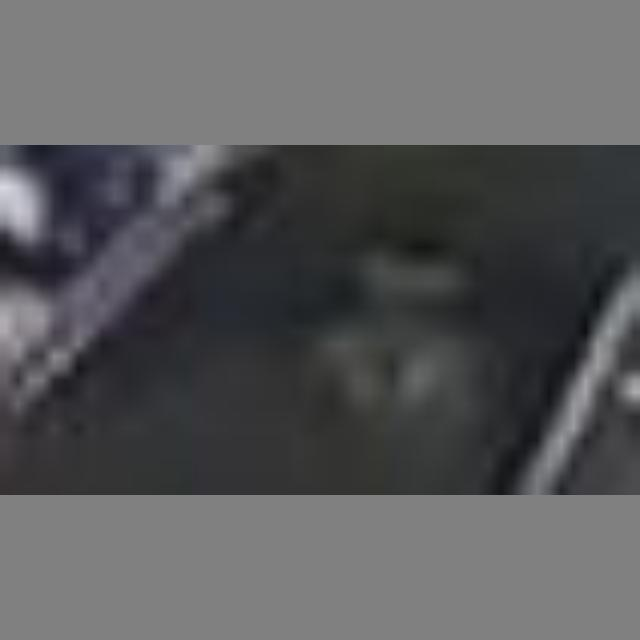pakai: (290, 254, 507, 447)
